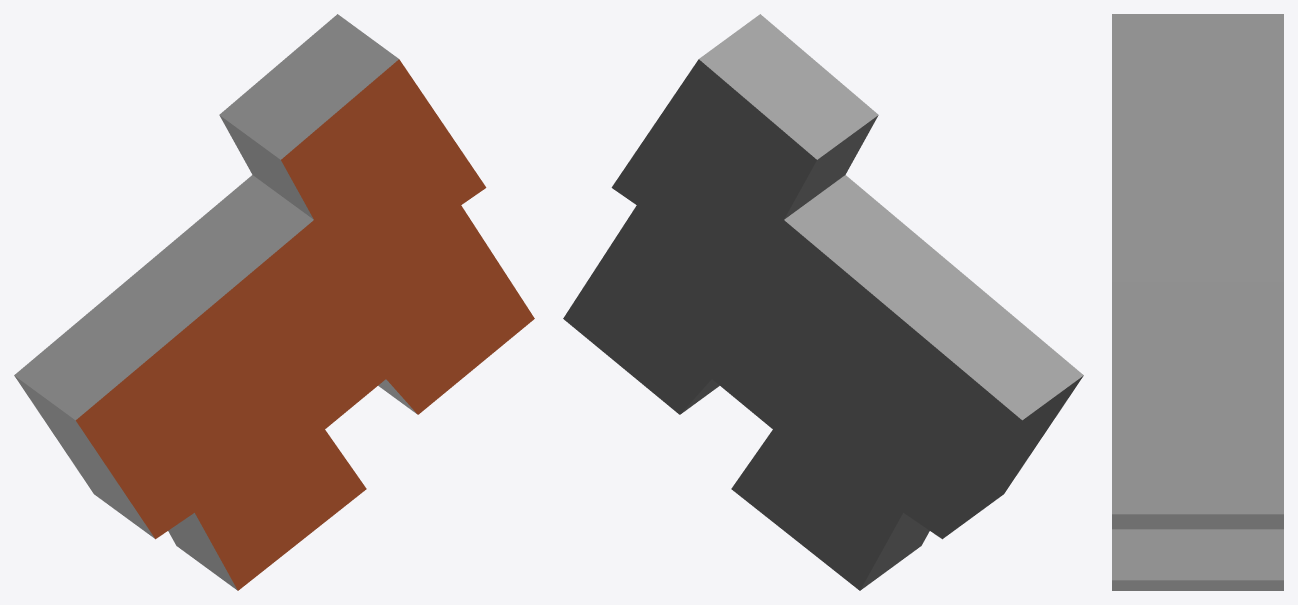
File: construction_3898_assumed_A_Casa_h6m.obj
The picture shows the model from 3 angles, left to right: view 1: azimuth 30°, elevation 25°; view 2: azimuth 150°, elevation 25°; view 3: azimuth 270°, elevation 25°; orthographic projection. The views are drawn at different scales.
Visible parts, largest first — view 1: construction_3898_assumed_A_Casa; view 2: construction_3898_assumed_A_Casa; view 3: construction_3898_assumed_A_Casa.
Part boxes in pixels (x1,y1,x2,y2): construction_3898_assumed_A_Casa: (14, 14, 534, 590); construction_3898_assumed_A_Casa: (563, 14, 1083, 590); construction_3898_assumed_A_Casa: (1112, 14, 1283, 590).
Size of the model in its own units: 25.83 by 26.47 by 6.
